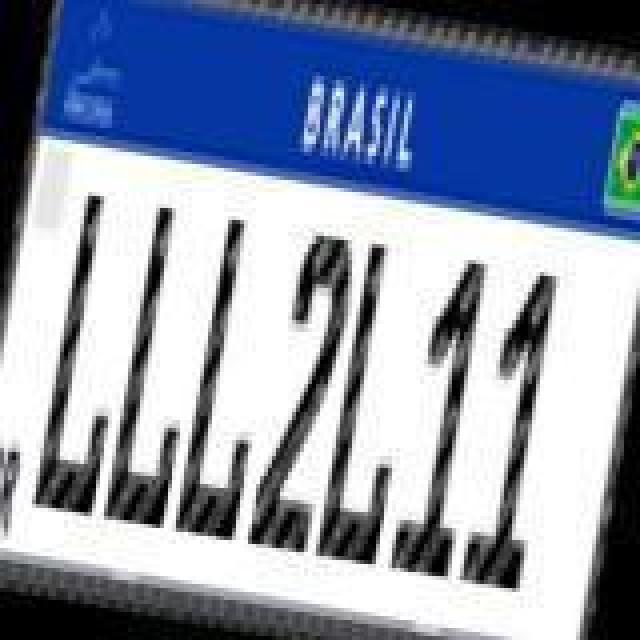1: (456, 264, 576, 600), (388, 250, 508, 582)
2: (242, 224, 366, 560)
L: (28, 186, 148, 518), (100, 202, 220, 534), (172, 210, 292, 542), (316, 234, 436, 566)
